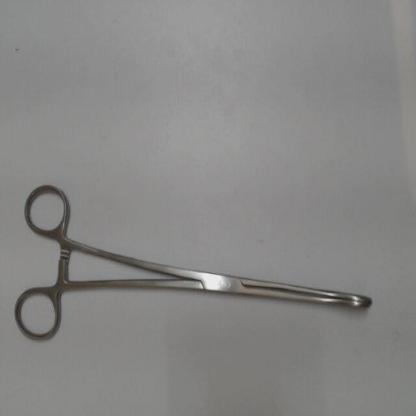Sponge Forceps: (9, 175, 384, 350)
